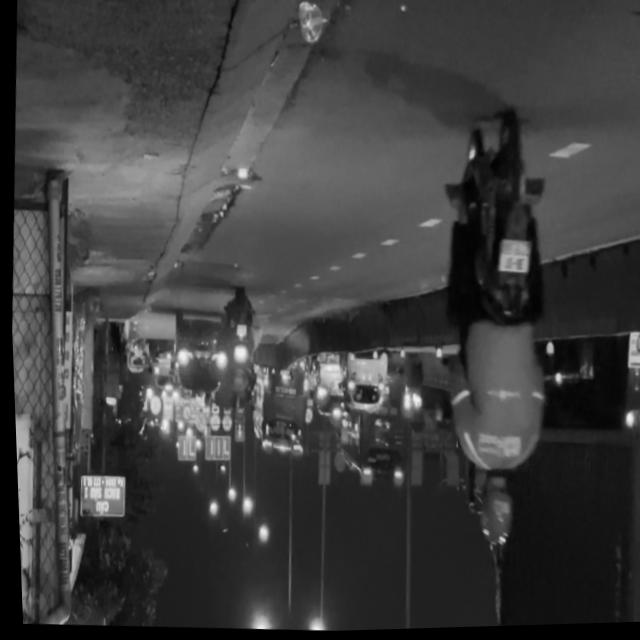helmet: (473, 472, 515, 549)
licenseplate: (418, 110, 568, 554)
nohelmet: (495, 241, 530, 277)
